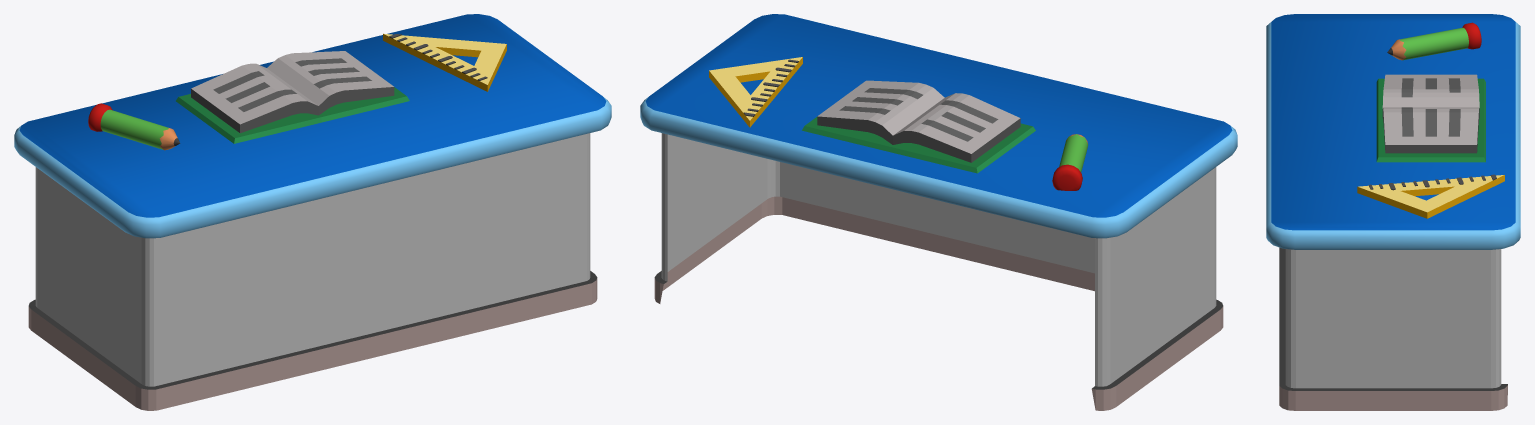
Rendered from Techer Table.fbx.
3 renders of one model, left to right at view 1: azimuth 30°, elevation 25°; view 2: azimuth 150°, elevation 25°; view 3: azimuth 270°, elevation 25°, orthographic. The views are drawn at different scales.
Parts seen in each view (by area): view 1: Techer Table; view 2: Techer Table; view 3: Techer Table.
Boxes of the visible parts, x1,y1,x2,y2 form: Techer Table: [14, 14, 611, 410]; Techer Table: [640, 14, 1237, 410]; Techer Table: [1266, 14, 1520, 410].
Bounding box in the file's own units: 13.99 × 6.08 × 6.82.
